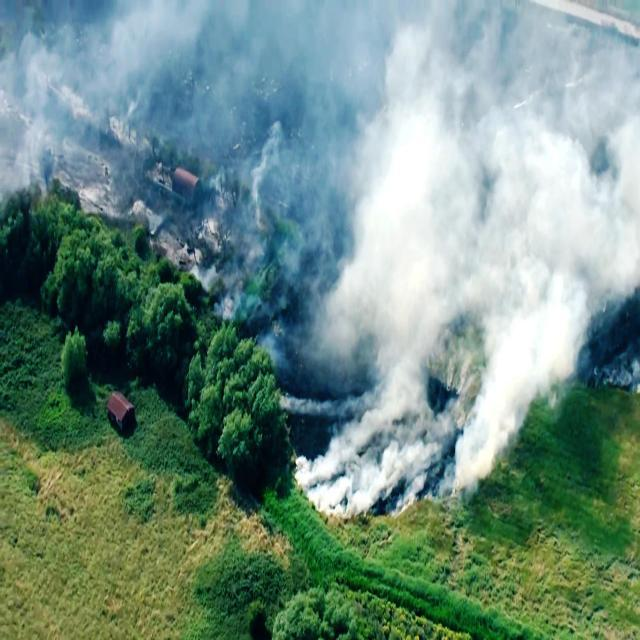Smoke: (461, 126, 617, 339), (348, 72, 449, 336), (310, 411, 408, 516), (440, 334, 508, 482)
